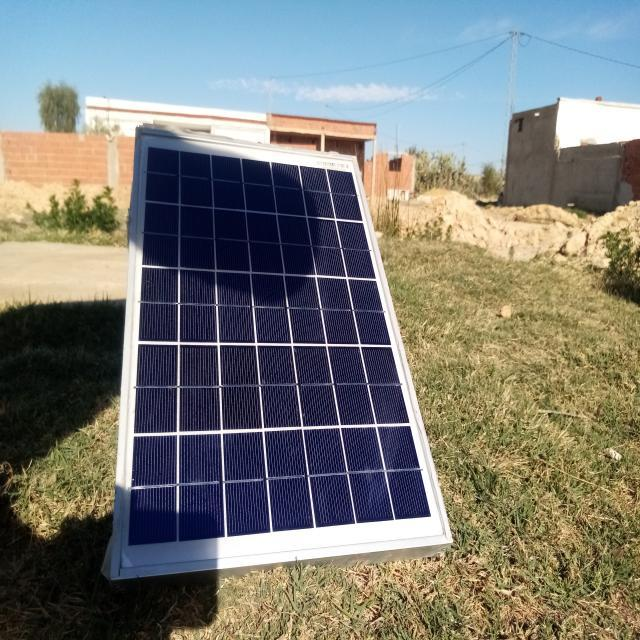no faulty: (112, 129, 452, 577)
